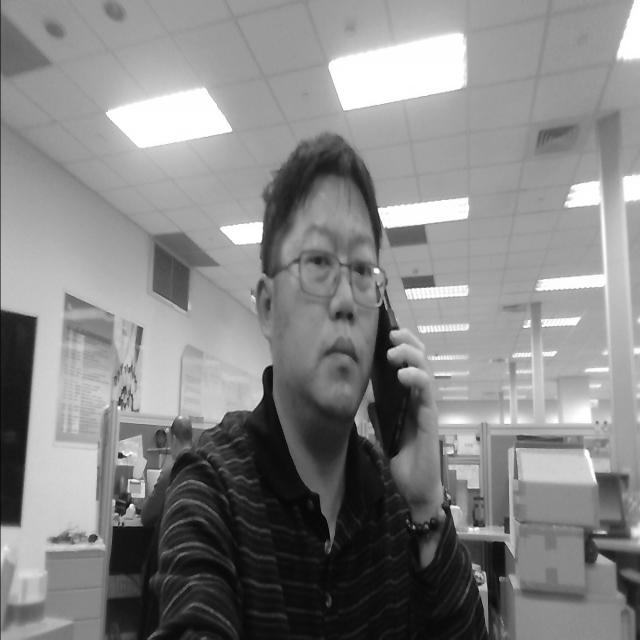phone: (362, 248, 441, 507)
